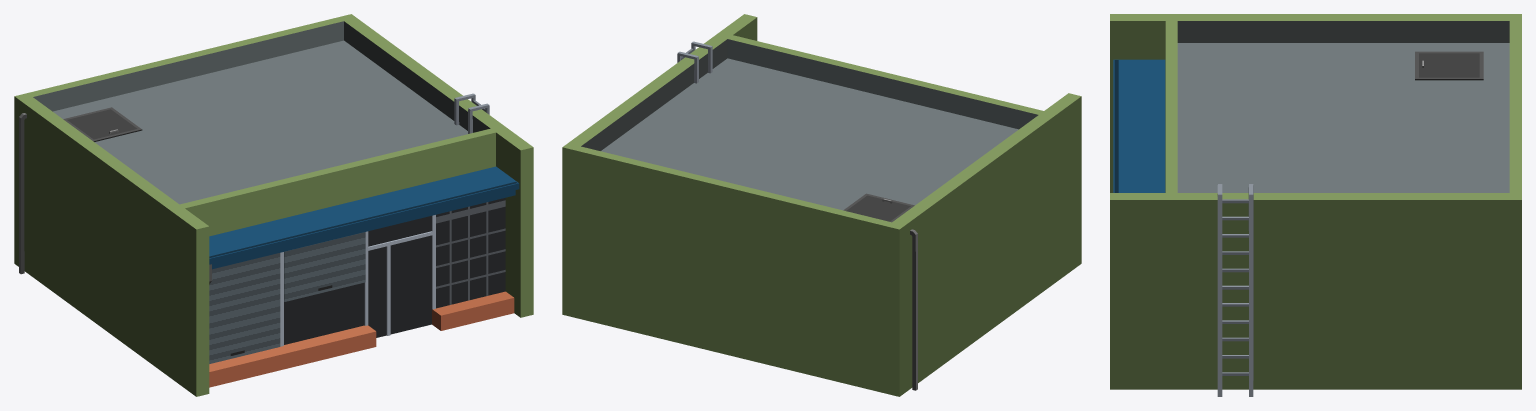
Rendered from SA_Bld_ShopSmall_Clean_01.gltf.
The picture shows the model from 3 angles, left to right: view 1: azimuth 30°, elevation 25°; view 2: azimuth 150°, elevation 25°; view 3: azimuth 270°, elevation 25°; orthographic projection. The views are drawn at different scales.
Visible parts, largest first — view 1: SA_Bld_ShopSmall_Clean_01; view 2: SA_Bld_ShopSmall_Clean_01; view 3: SA_Bld_ShopSmall_Clean_01.
Boxes of the visible parts, box(x1,y1,x2,y2) form: SA_Bld_ShopSmall_Clean_01: box(14, 14, 533, 396); SA_Bld_ShopSmall_Clean_01: box(562, 14, 1081, 396); SA_Bld_ShopSmall_Clean_01: box(1110, 14, 1521, 396).
Bounding box in the file's own units: 12.84 × 6.33 × 11.68.
1 material, 1 textured.
